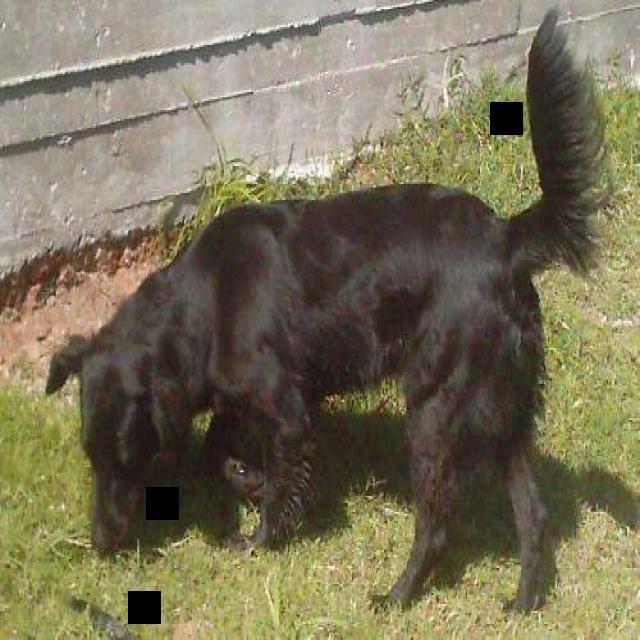adult_dog: (33, 12, 613, 618)
